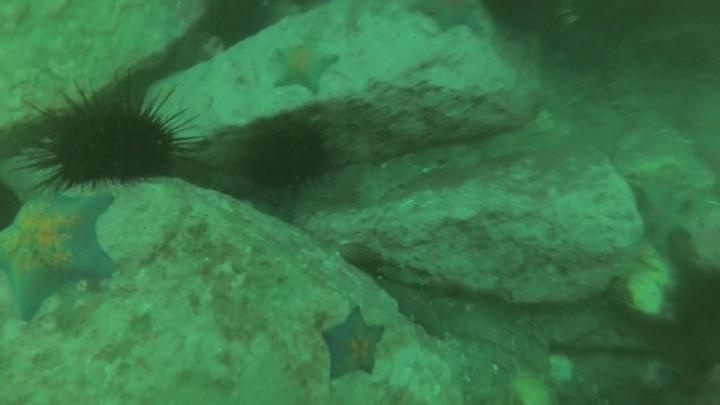echinus: (21, 80, 202, 194), (657, 266, 720, 383), (241, 117, 334, 193), (200, 1, 274, 50)
holothurian: (350, 160, 425, 211)
starfish: (0, 186, 122, 325), (319, 305, 388, 383), (269, 36, 341, 97), (630, 180, 690, 248), (406, 1, 491, 38)
